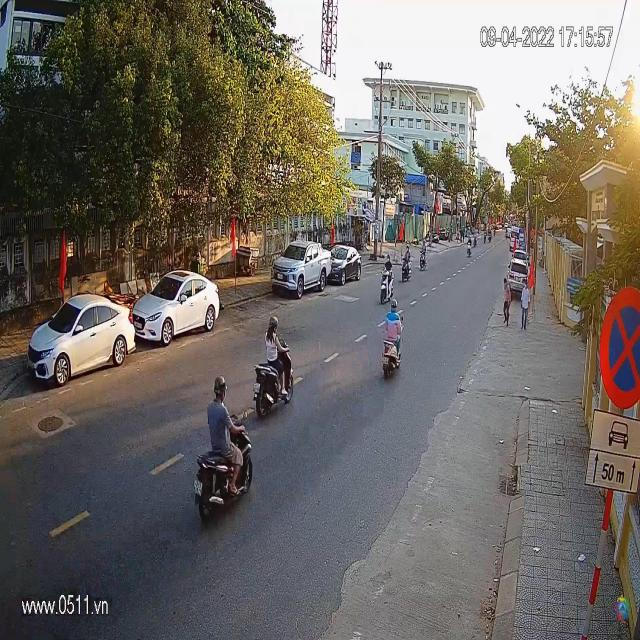car: (26, 291, 136, 386), (129, 271, 221, 348), (271, 243, 333, 300), (328, 245, 362, 282)
motorcycle: (196, 428, 255, 520), (253, 356, 295, 418), (383, 334, 403, 377), (378, 261, 396, 305)
